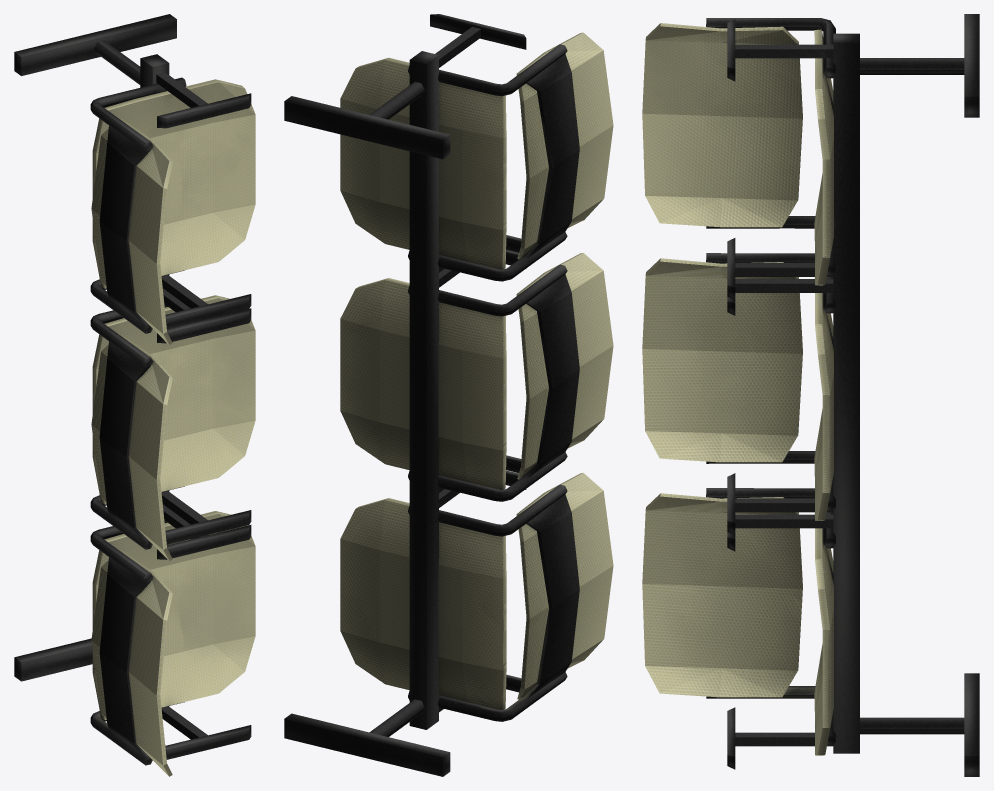
File: WhiteChipChair.dae
The picture shows the model from 3 angles, left to right: view 1: azimuth 30°, elevation 25°; view 2: azimuth 150°, elevation 25°; view 3: azimuth 270°, elevation 25°; orthographic projection. The views are drawn at different scales.
Parts seen in each view (by area): view 1: node; view 2: node; view 3: node.
Boxes of the visible parts, x1,y1,x2,y2 form: node: (14, 14, 255, 776); node: (284, 14, 613, 776); node: (642, 14, 979, 776).
Size of the model in its own units: 0.4554 by 1.56 by 0.6721.
1 material, 1 textured.
